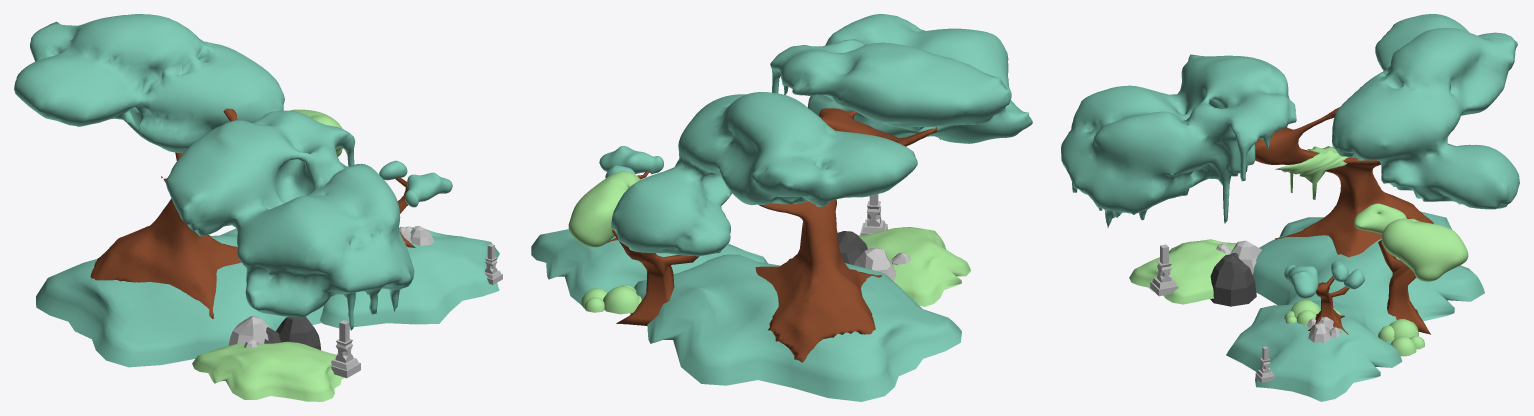
Rendered from OASE_KLEIN.fbx.
3 views of the same model, side by side, from view 1: azimuth 30°, elevation 25°; view 2: azimuth 150°, elevation 25°; view 3: azimuth 270°, elevation 25° (orthographic). The views are drawn at different scales.
Parts seen in each view (by area): view 1: Sphere.010, Sphere.011, Sphere.002, Cube.260, Sphere.007, Sphere, Sphere.008, Cube.259, Sphere.009, Cube.258; view 2: Sphere.010, Sphere.011, Cube.260, Sphere.002, Sphere.007, Sphere.004, Cube.047, Sphere.006, Sphere, Sphere.009, Sphere.008, Cube.259; view 3: Sphere.010, Sphere.011, Sphere.002, Cube.260, Sphere.004, Sphere.007, Sphere.008, Cube.047, Sphere, Cube.261, Sphere.006, Cube.295 (+5 smaller).
Boxes of the visible parts, x1=… form: Sphere.010: x1=14, y1=14, x2=414, y2=330; Sphere.011: x1=36, y1=228, x2=323, y2=367; Sphere.002: x1=320, y1=227, x2=499, y2=328; Cube.260: x1=90, y1=108, x2=240, y2=318; Sphere.007: x1=192, y1=341, x2=344, y2=401; Sphere: x1=379, y1=160, x2=452, y2=207; Sphere.008: x1=264, y1=316, x2=320, y2=350; Cube.259: x1=331, y1=320, x2=360, y2=378; Sphere.009: x1=228, y1=316, x2=269, y2=347; Cube.258: x1=484, y1=244, x2=502, y2=284; Sphere.010: x1=611, y1=14, x2=1032, y2=256; Sphere.011: x1=630, y1=254, x2=961, y2=401; Cube.260: x1=755, y1=108, x2=937, y2=362; Sphere.002: x1=531, y1=229, x2=767, y2=305; Sphere.007: x1=858, y1=227, x2=970, y2=306; Sphere.004: x1=568, y1=171, x2=721, y2=253; Cube.047: x1=612, y1=229, x2=698, y2=325; Sphere.006: x1=580, y1=285, x2=641, y2=314; Sphere: x1=599, y1=146, x2=663, y2=178; Sphere.009: x1=854, y1=247, x2=910, y2=280; Sphere.008: x1=837, y1=231, x2=867, y2=264; Cube.259: x1=860, y1=194, x2=887, y2=235; Sphere.010: x1=1061, y1=14, x2=1519, y2=227; Sphere.011: x1=1252, y1=211, x2=1484, y2=343; Sphere.002: x1=1226, y1=300, x2=1402, y2=401; Cube.260: x1=1255, y1=107, x2=1433, y2=257; Sphere.004: x1=1354, y1=203, x2=1468, y2=281; Sphere.007: x1=1129, y1=239, x2=1236, y2=304; Sphere.008: x1=1210, y1=253, x2=1256, y2=306; Cube.047: x1=1378, y1=216, x2=1430, y2=334; Sphere: x1=1284, y1=261, x2=1364, y2=298; Cube.261: x1=1275, y1=146, x2=1348, y2=199; Sphere.006: x1=1378, y1=319, x2=1424, y2=356; Cube.295: x1=1308, y1=276, x2=1349, y2=334.
Bounding box in the file's own units: 3004 × 1831 × 3167.
